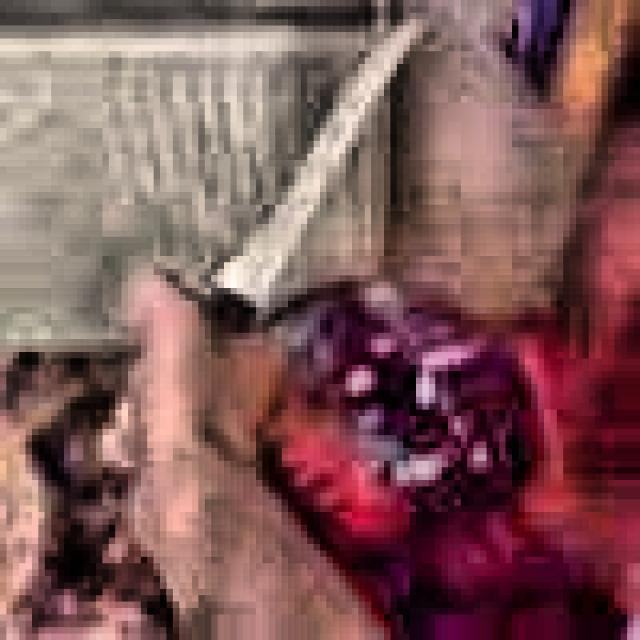knife: (99, 24, 420, 518)
